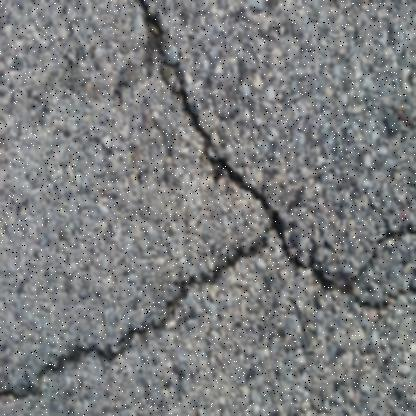Cracks: (126, 0, 416, 305), (0, 218, 274, 406)
